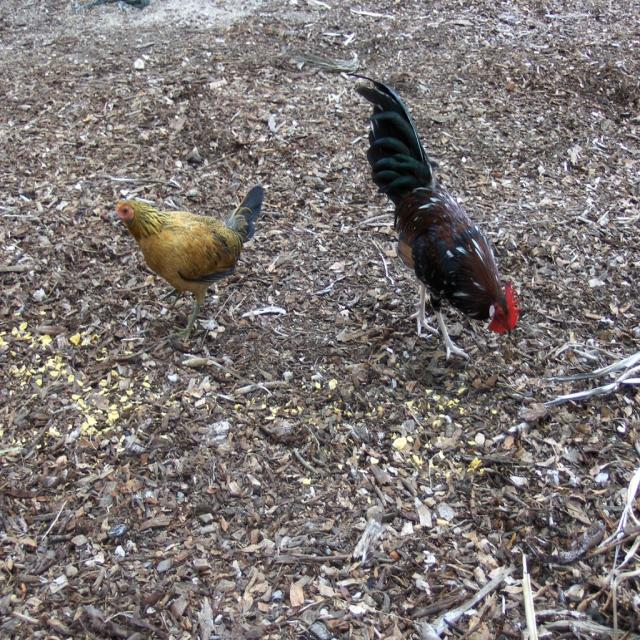Chicken: (348, 76, 526, 361), (110, 185, 266, 343)
